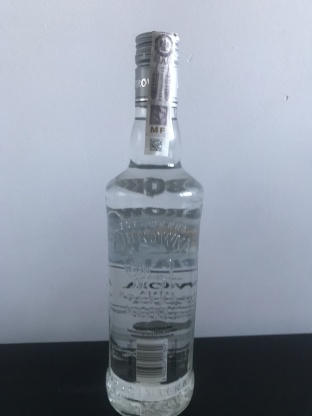nakretka: (132, 27, 182, 110)
